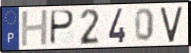0: (133, 7, 156, 44)
2: (79, 8, 101, 46)
4: (107, 7, 127, 45)
H: (20, 8, 49, 48)
P: (49, 9, 76, 47)
V: (159, 5, 184, 43)
